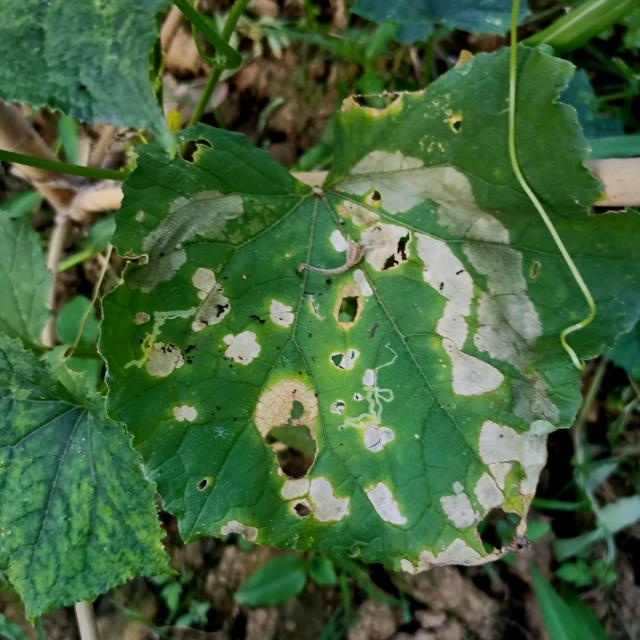disease_cucumber: (217, 386, 558, 564), (317, 146, 545, 400), (123, 180, 306, 433)
